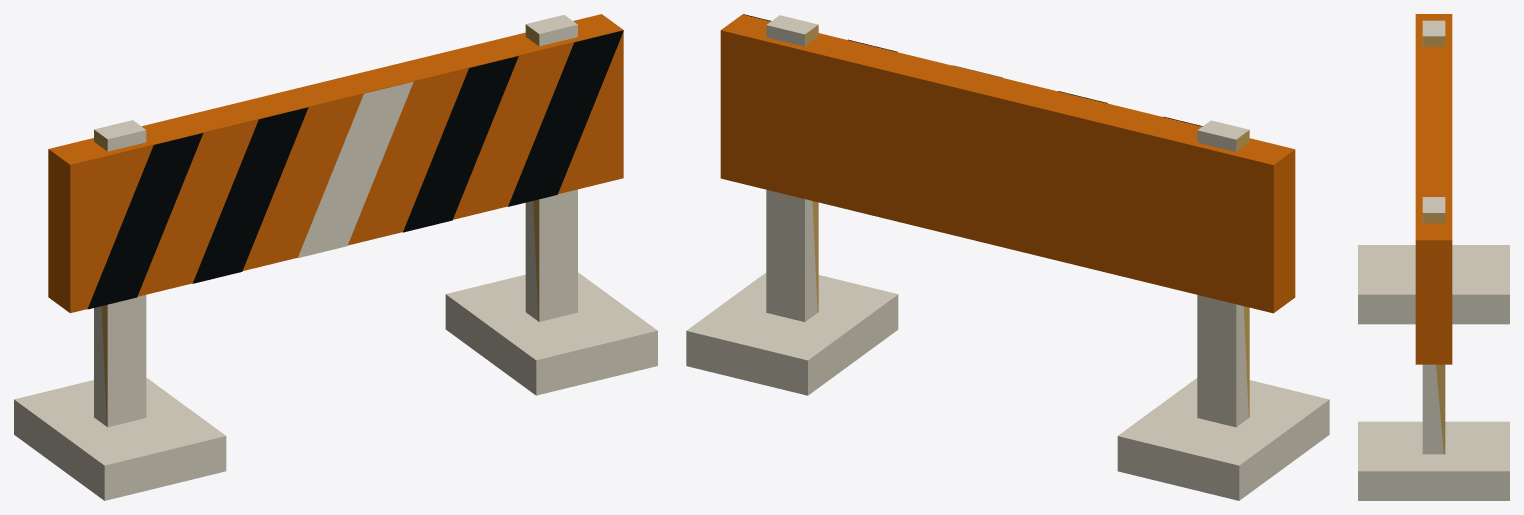
The model's file is road_barrier.fbx.
3 views of the same model, side by side, from view 1: azimuth 30°, elevation 25°; view 2: azimuth 150°, elevation 25°; view 3: azimuth 270°, elevation 25° (orthographic). The views are drawn at different scales.
Visible parts, largest first — view 1: Part_2, Part_4, Part_-1, Part_3, Part_0, Part_1; view 2: Part_2, Part_4, Part_-1, Part_0, Part_1; view 3: Part_-1, Part_4, Part_2, Part_1, Part_0.
Part boxes in pixels (x1,y1,x2,y2): Part_2: (48,14,622,426); Part_4: (70,14,623,321); Part_-1: (14,272,657,500); Part_3: (298,81,413,257); Part_0: (94,120,146,427); Part_1: (525,15,577,321); Part_2: (721,30,1295,417); Part_4: (720,14,1291,313); Part_-1: (686,272,1329,500); Part_0: (1197,120,1249,427); Part_1: (766,15,818,321); Part_-1: (1358,245,1509,500); Part_4: (1415,14,1452,454); Part_2: (1416,14,1452,239); Part_1: (1422,197,1445,454); Part_0: (1422,20,1445,46).
Size of the model in its own units: 3 by 1.67 by 0.85.
